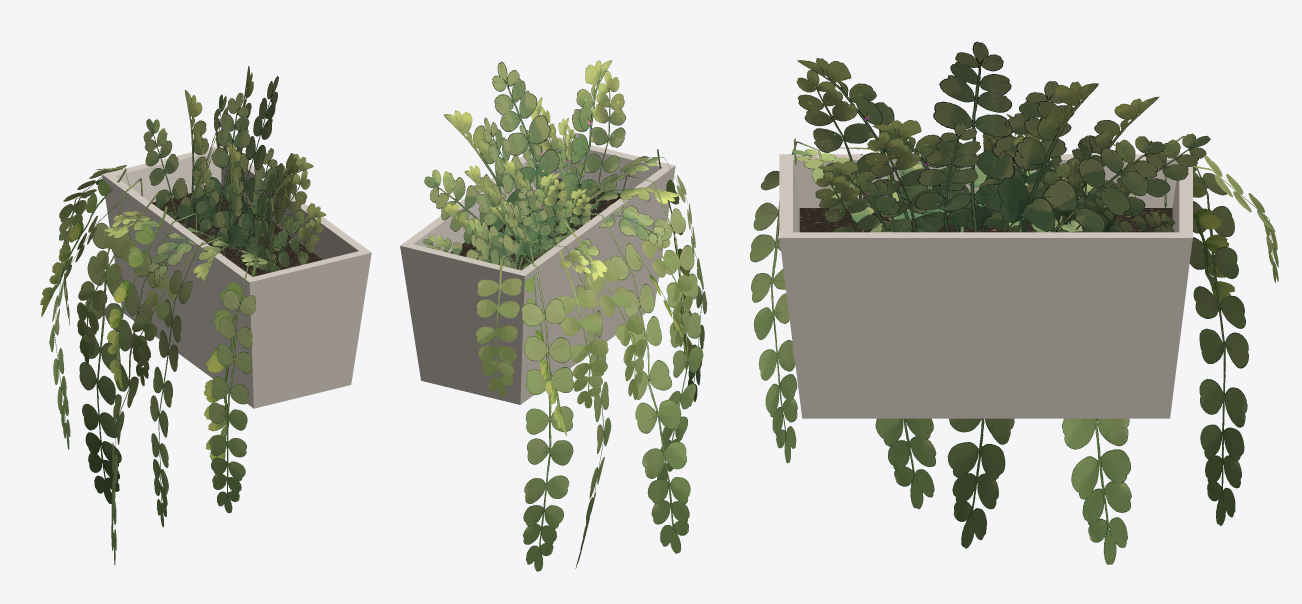
The model's file is MOD_plant_1.fbx.
3 views of the same model, side by side, from view 1: azimuth 30°, elevation 25°; view 2: azimuth 150°, elevation 25°; view 3: azimuth 270°, elevation 25° (orthographic). The views are drawn at different scales.
Visible parts, largest first — view 1: plant3; view 2: plant3; view 3: plant3.
Part boxes in pixels (box(x1,y1,x2,y2)): plant3: box(40, 66, 371, 564); plant3: box(400, 60, 707, 571); plant3: box(750, 41, 1278, 564).
Bounding box in the file's own units: 0.8616 × 1.73 × 1.31.
